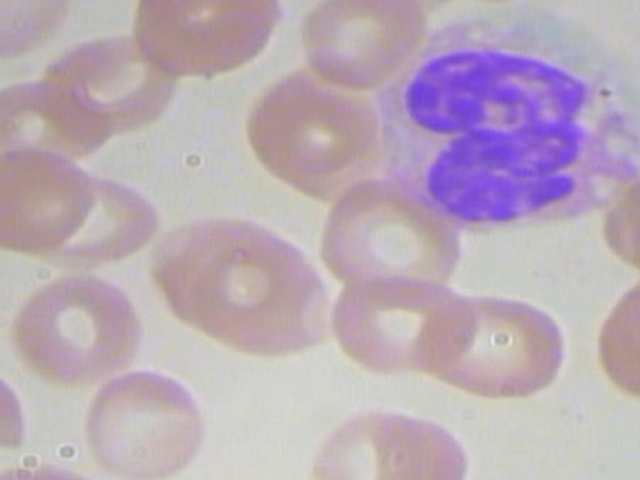RBC: (315, 177, 491, 305), (392, 277, 568, 404), (169, 238, 342, 365), (7, 269, 148, 380), (74, 370, 215, 480), (119, 0, 284, 87), (298, 0, 436, 92), (0, 145, 97, 250), (363, 405, 484, 480), (0, 0, 74, 62), (0, 342, 37, 453), (639, 0, 640, 39)
WBC: (359, 8, 640, 230)
